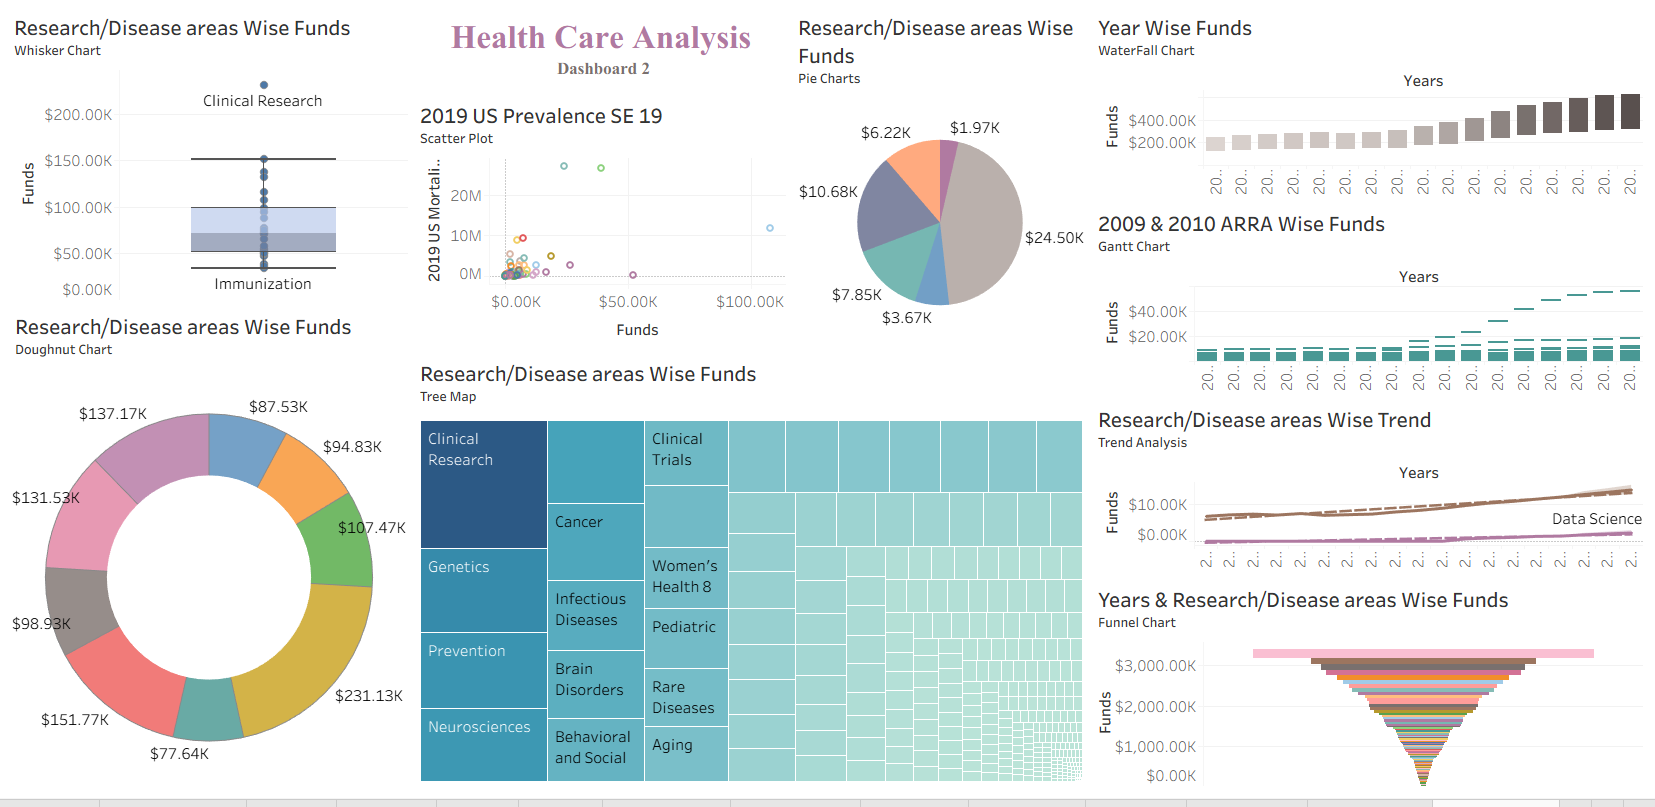

What the dashboard file says about the page in this screenshot:
{"tool":"tableau","page":{"name":"Dashboard 2 ","canvas":[1000,1000],"units":"permille","ordinal":1},"visuals":[{"type":"worksheet","title":"Whisker Chart","mark":"Circle","rows":["Pivot Field Values"],"box":[4.8,10,245,373.3]},{"type":"text","box":[249.8,10,228,109.9]},{"type":"worksheet","title":"Pie Charts","mark":"Pie","box":[477.8,10,181.2,432]},{"type":"worksheet","title":"WaterFall Chart","mark":"GanttBar","rows":["Pivot Field Values"],"cols":["Pivot Field Names"],"box":[659,10,336.2,244.7]},{"type":"worksheet","title":"Scatter Plot","mark":"Shape","rows":["2019 US Mortality 19"],"cols":["Pivot Field Values"],"box":[249.8,119.9,228,322.1]},{"type":"worksheet","title":"Gantt Chart","mark":"GanttBar","rows":["Pivot Field Values"],"cols":["Pivot Field Names"],"box":[659,254.7,336.2,244.7]},{"type":"worksheet","title":"Doughnut Chart","mark":"Pie","cols":["Calculation_1340383842393010177","Calculation_1340383842393051139"],"box":[4.8,383.3,245,606.7]},{"type":"worksheet","title":"Tree Map","mark":"Automatic","box":[249.8,441.9,409.2,548.1]},{"type":"worksheet","title":"Trend Analysis","mark":"Automatic","rows":["Pivot Field Values"],"cols":["Pivot Field Names"],"box":[659,499.4,336.2,224.7]},{"type":"worksheet","title":"Funnel Chart","mark":"Automatic","rows":["Pivot Field Values"],"box":[659,724.1,336.2,265.9]}]}

Visuals, with their boxes on the dashboard's canvas, which has no fixed pixel size, in thousandths of its width and height (x1, y1, x2, y2). These are canvas units, not pixel positions in the 1655x807 screenshot, which may show the page scaled, cropped or inside an application window:
"Whisker Chart" worksheet (Circle marks): [left=5, top=10, right=250, bottom=383]
text: [left=250, top=10, right=478, bottom=120]
"Pie Charts" worksheet (Pie marks): [left=478, top=10, right=659, bottom=442]
"WaterFall Chart" worksheet (GanttBar marks): [left=659, top=10, right=995, bottom=255]
"Scatter Plot" worksheet (Shape marks): [left=250, top=120, right=478, bottom=442]
"Gantt Chart" worksheet (GanttBar marks): [left=659, top=255, right=995, bottom=499]
"Doughnut Chart" worksheet (Pie marks): [left=5, top=383, right=250, bottom=990]
"Tree Map" worksheet: [left=250, top=442, right=659, bottom=990]
"Trend Analysis" worksheet: [left=659, top=499, right=995, bottom=724]
"Funnel Chart" worksheet: [left=659, top=724, right=995, bottom=990]
